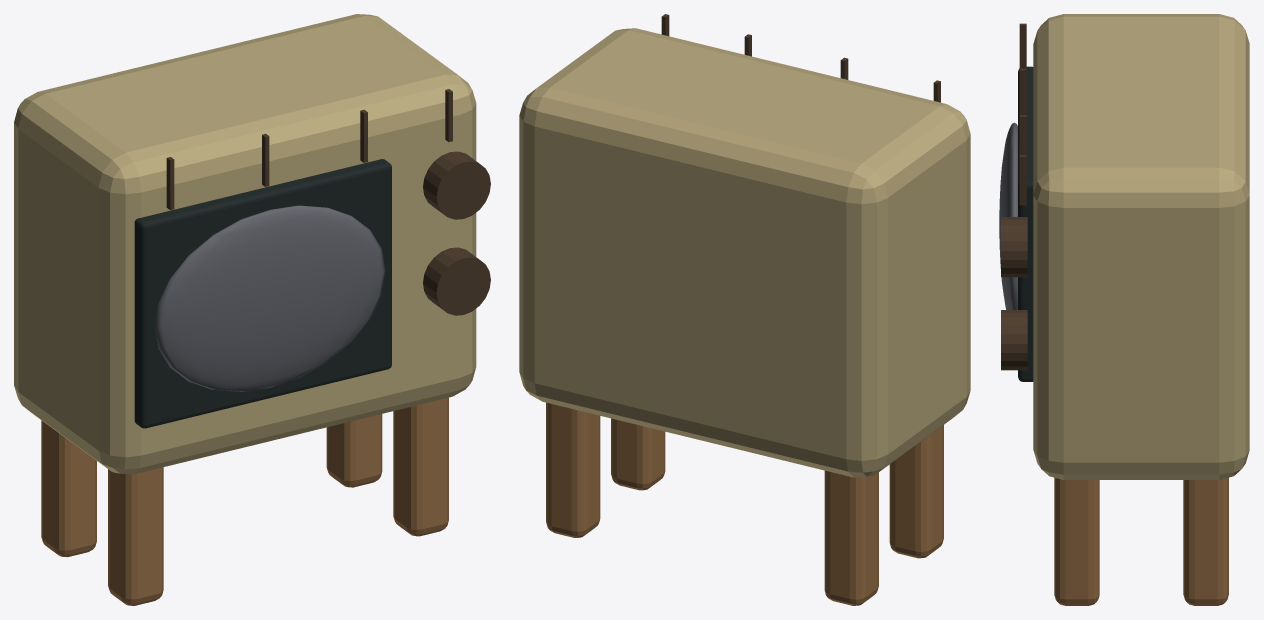
Rendered from best.glb.
The picture shows the model from 3 angles, left to right: view 1: azimuth 30°, elevation 25°; view 2: azimuth 150°, elevation 25°; view 3: azimuth 270°, elevation 25°; orthographic projection. The views are drawn at different scales.
Parts seen in each view (by area): view 1: Stone TV cabinet, Curved CRT, Leg, CRT bezel, Stone joint; view 2: Stone TV cabinet, Leg, Stone joint; view 3: Stone TV cabinet, Leg, Stone joint, CRT bezel, Curved CRT.
Part boxes in pixels (bbox=[...]): Stone TV cabinet: bbox=[14, 14, 476, 474]; Curved CRT: bbox=[154, 205, 385, 391]; Leg: bbox=[41, 397, 448, 605]; CRT bezel: bbox=[134, 159, 391, 428]; Stone joint: bbox=[166, 89, 490, 315]; Stone TV cabinet: bbox=[519, 28, 970, 477]; Leg: bbox=[546, 402, 943, 605]; Stone joint: bbox=[661, 14, 940, 102]; Stone TV cabinet: bbox=[1033, 14, 1249, 479]; Leg: bbox=[1054, 477, 1228, 605]; Stone joint: bbox=[1001, 23, 1027, 370]; CRT bezel: bbox=[1018, 66, 1033, 381]; Curved CRT: bbox=[999, 122, 1017, 309].
Bounding box in the file's own units: 1 × 1.17 × 0.6.
